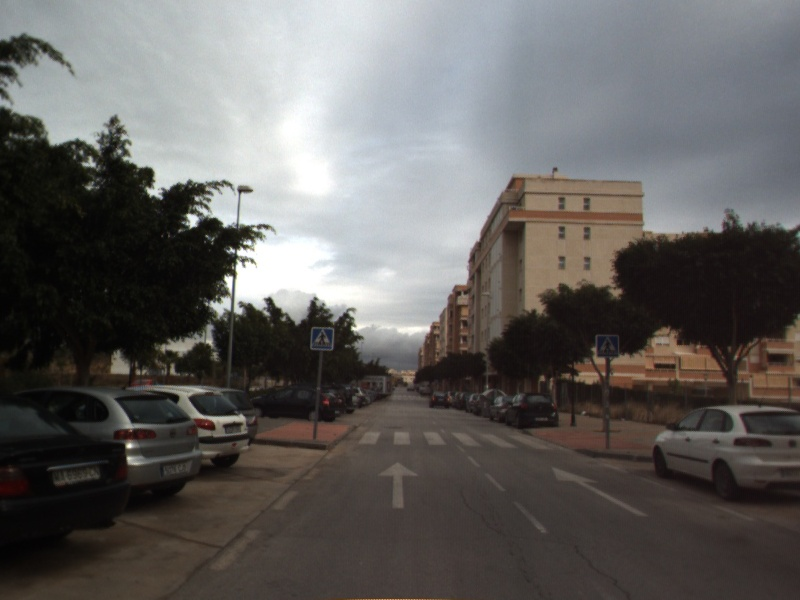STRAIGHT: (550, 465, 650, 518), (376, 460, 420, 510)
